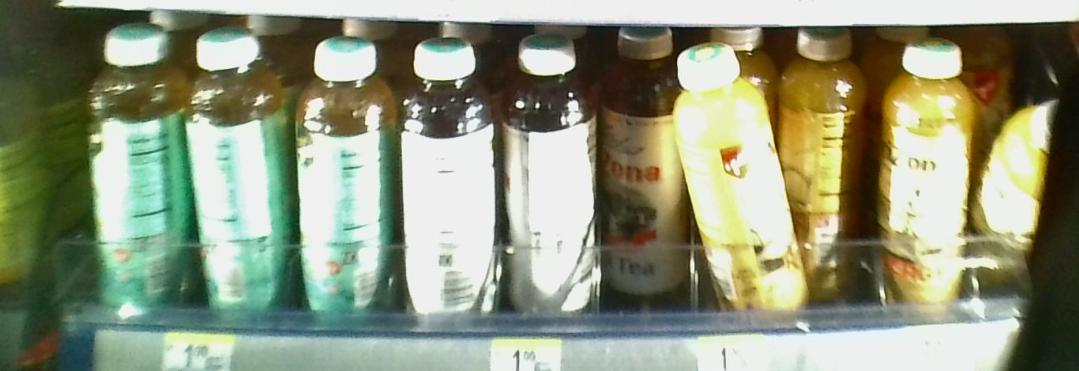bottle: (674, 40, 808, 307), (189, 23, 301, 321), (77, 12, 187, 302), (500, 32, 607, 322), (300, 28, 403, 322), (876, 32, 981, 304), (407, 39, 501, 320), (611, 30, 686, 295), (788, 24, 858, 285)
